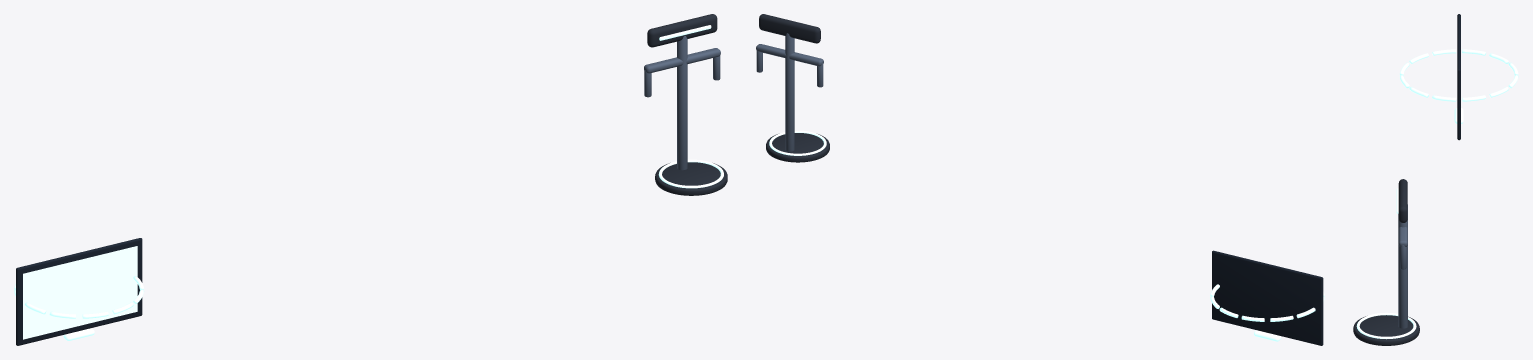
File: lab.glb
3 renders of one model, left to right at view 1: azimuth 30°, elevation 25°; view 2: azimuth 150°, elevation 25°; view 3: azimuth 270°, elevation 25°, orthographic. The views are drawn at different scales.
Parts seen in each view (by area): view 1: Holo_Screen, Holo_Frame, Dock_Base, Dock_Spine, Dock_Header, Dock_Yoke; view 2: Holo_Frame, Dock_Base, Dock_Spine, Dock_Header, Dock_Yoke; view 3: Dock_Base, Dock_Spine, Holo_Frame, Dock_Header, Dock_BaseGlow, Dock_Yoke, Dock_ArmR.
Boxes of the visible parts, box(x1,y1,x2,y2) form: Holo_Screen: box(23, 246, 137, 339); Holo_Frame: box(16, 238, 142, 345); Dock_Base: box(655, 162, 727, 195); Dock_Spine: box(677, 36, 687, 170); Dock_Header: box(647, 14, 717, 47); Dock_Yoke: box(644, 48, 720, 73); Holo_Frame: box(1212, 250, 1323, 345); Dock_Base: box(766, 133, 829, 162); Dock_Spine: box(785, 33, 794, 151); Dock_Header: box(759, 14, 820, 43); Dock_Yoke: box(756, 44, 823, 66); Dock_Base: box(1353, 315, 1419, 345); Dock_Spine: box(1398, 204, 1407, 328); Holo_Frame: box(1457, 14, 1460, 140); Dock_Header: box(1398, 179, 1407, 222); Dock_BaseGlow: box(1356, 312, 1416, 339); Dock_Yoke: box(1398, 227, 1407, 246); Dock_ArmR: box(1400, 245, 1406, 269).
Bounding box in the file's own units: 235 × 66.2 × 54.67.
